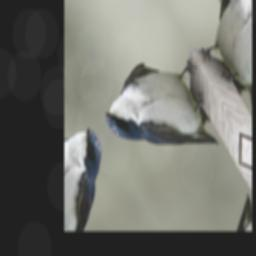Swallow: (93, 30, 234, 202)
